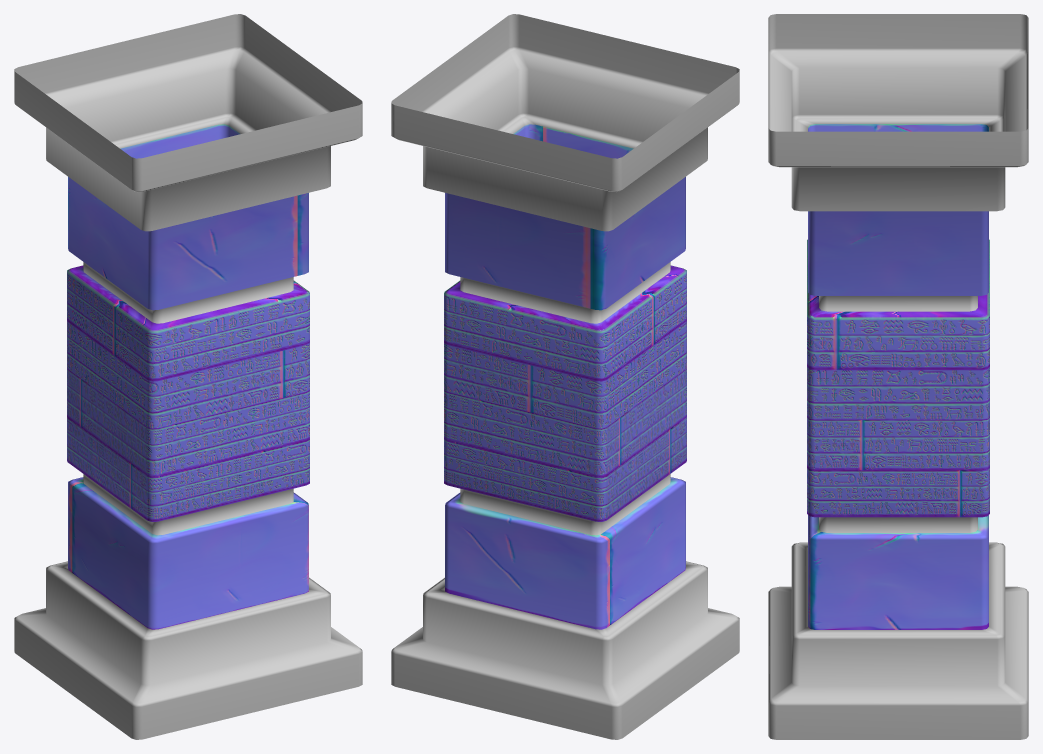
Rendered from Wall_Pillar.fbx.
3 renders of one model, left to right at view 1: azimuth 30°, elevation 25°; view 2: azimuth 150°, elevation 25°; view 3: azimuth 270°, elevation 25°, orthographic. The views are drawn at different scales.
Visible parts, largest first — view 1: Room_Pillar; view 2: Room_Pillar; view 3: Room_Pillar.
Part boxes in pixels (x1,y1,x2,y2): Room_Pillar: [14, 14, 362, 739]; Room_Pillar: [391, 14, 739, 739]; Room_Pillar: [768, 14, 1028, 739].
Bounding box in the file's own units: 7.21 × 17.37 × 6.73.
